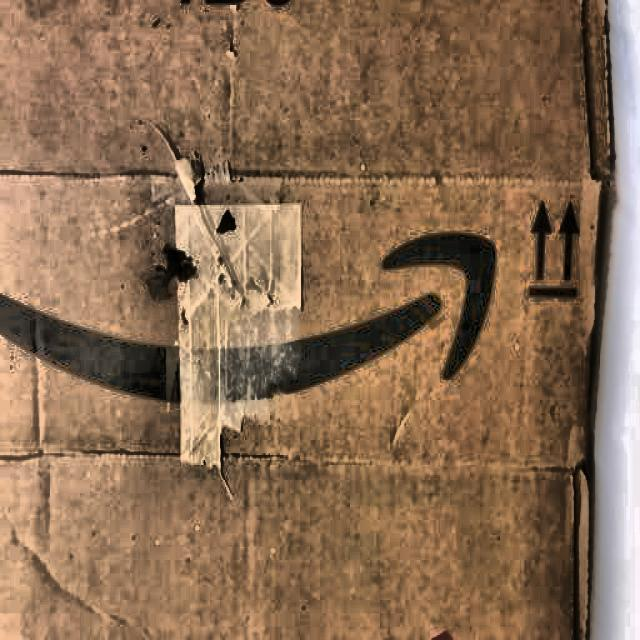cardboard: (6, 10, 610, 634)
